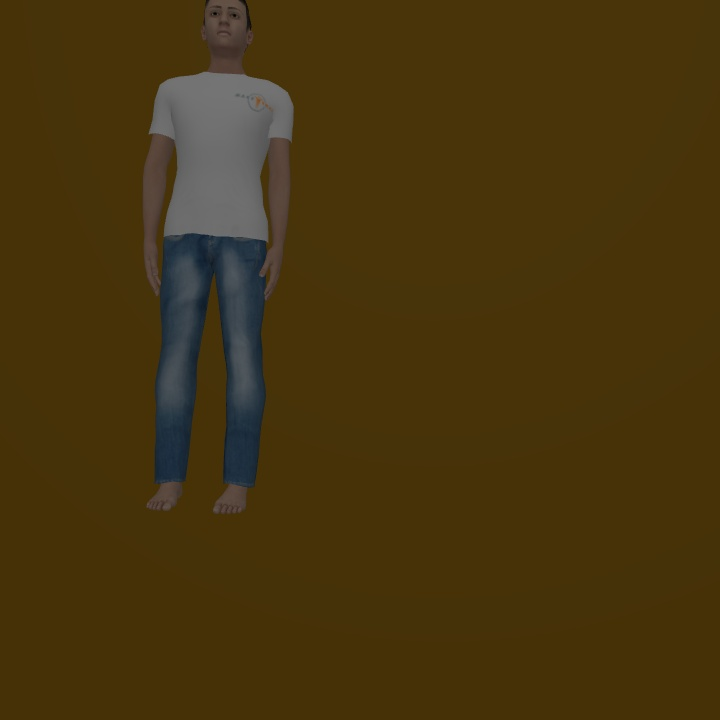victim: (144, 1, 291, 512)
